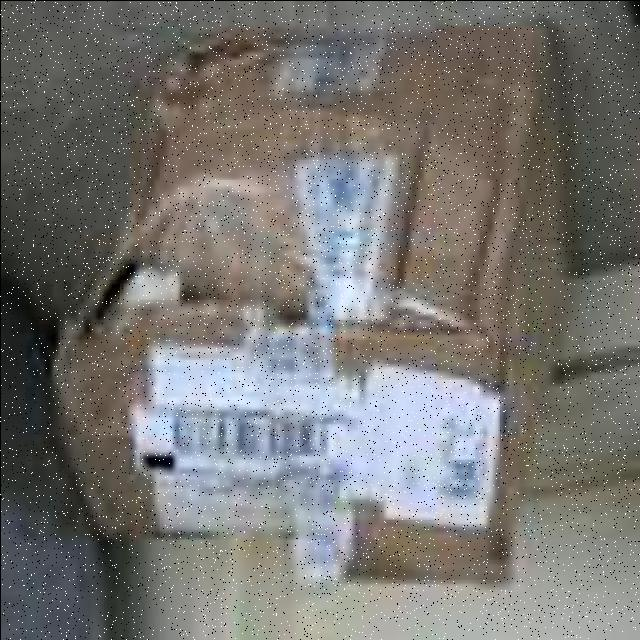defect: (56, 45, 566, 604)
